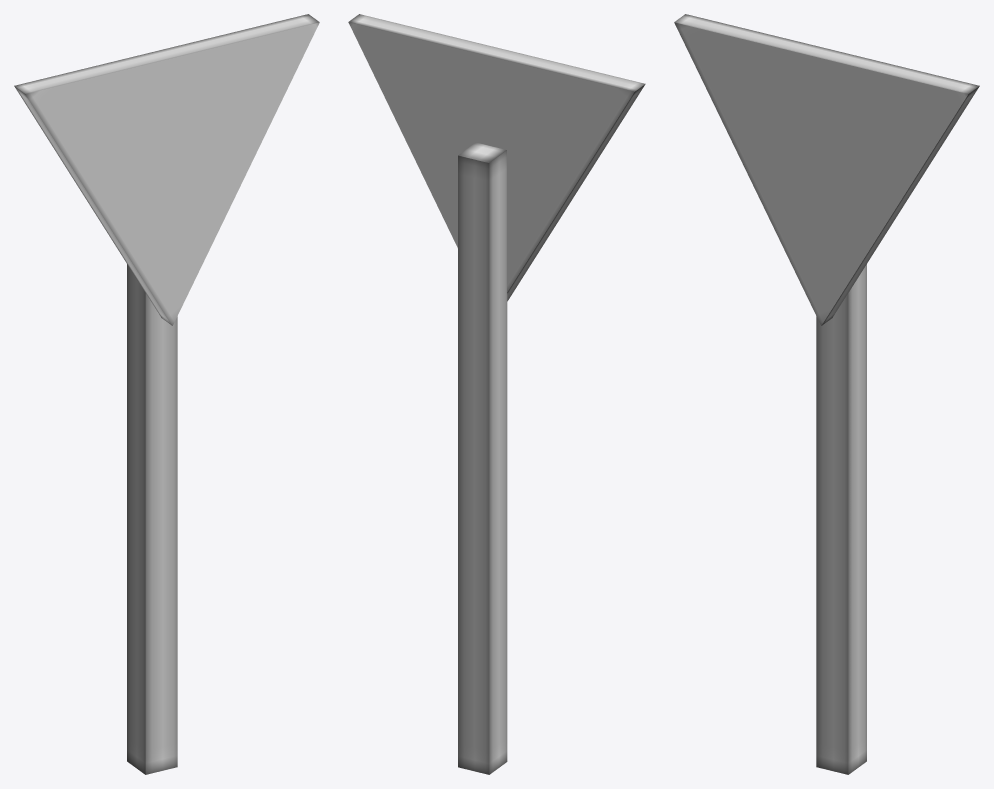
The model's file is Sign-07.fbx.
The picture shows the model from 3 angles, left to right: view 1: azimuth 30°, elevation 25°; view 2: azimuth 150°, elevation 25°; view 3: azimuth 330°, elevation 25°; orthographic projection. The views are drawn at different scales.
Visible parts, largest first — view 1: Sign_07; view 2: Sign_07; view 3: Sign_07.
Boxes of the visible parts, x1,y1,x2,y2 form: Sign_07: (14,14,319,774); Sign_07: (348,14,645,774); Sign_07: (674,14,979,774).
Size of the model in its own units: 0.4342 by 1.02 by 0.0757.
